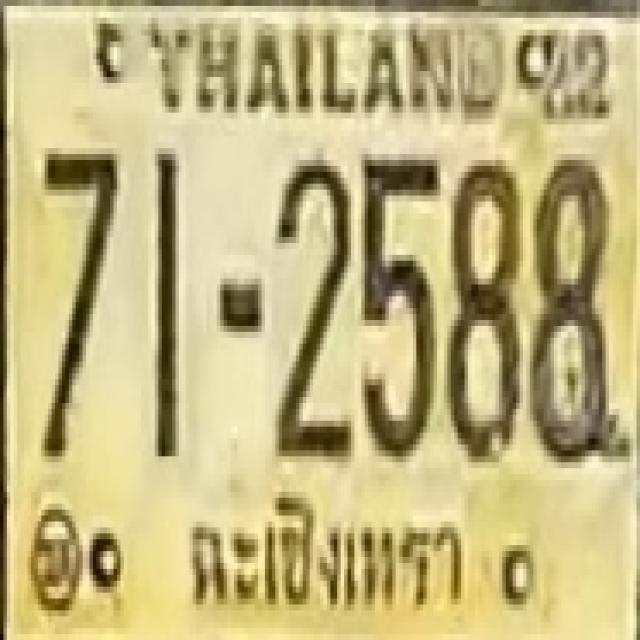1: (152, 145, 176, 459)
2: (274, 151, 349, 453)
5: (358, 148, 437, 456)
7: (40, 146, 115, 454)
8: (528, 157, 621, 459), (445, 154, 518, 456)
CCO: (173, 481, 477, 629)
